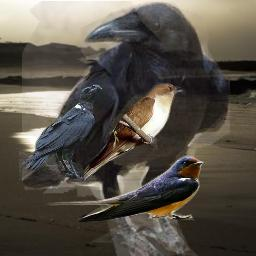Crow: (22, 1, 230, 256), (19, 83, 104, 180)
Cuckoo: (84, 82, 186, 181)
Swallow: (46, 155, 204, 223)
